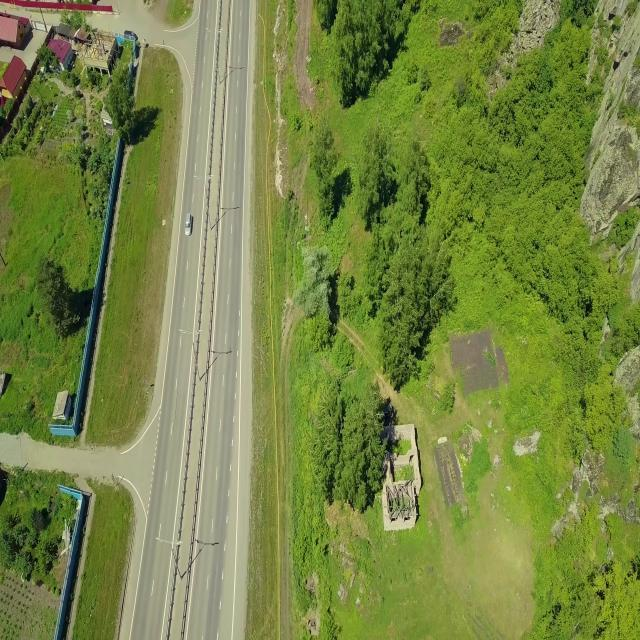vehicle: (185, 213, 192, 236)
